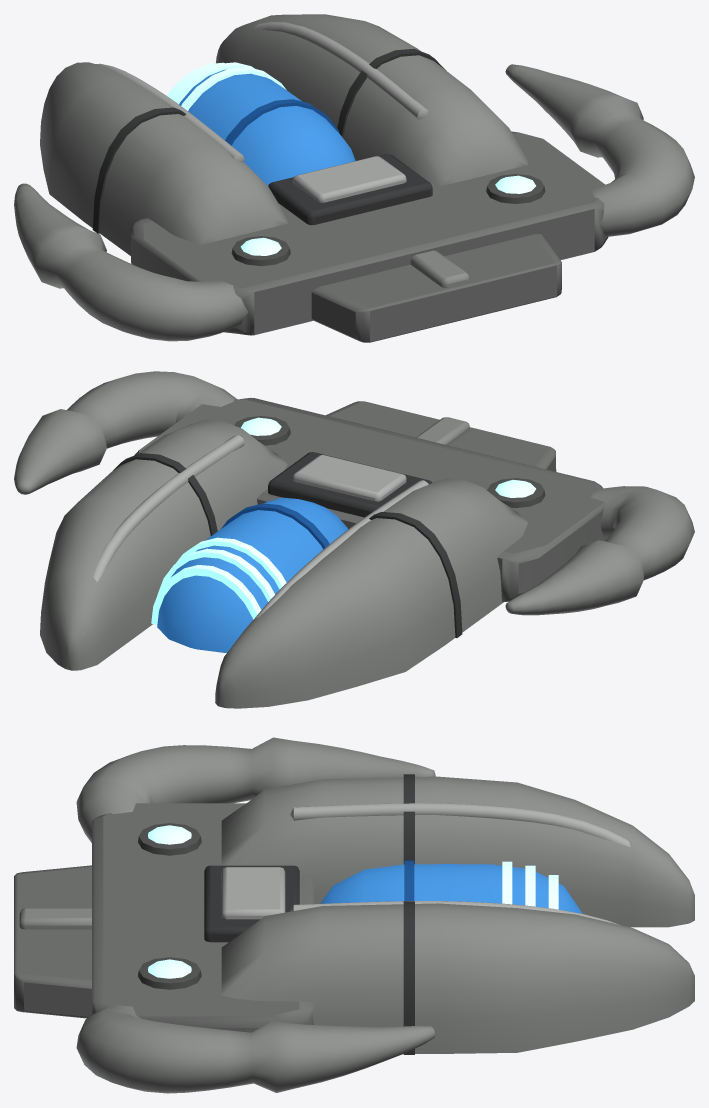
Rendered from store_gun_5.glb.
3 renders of one model, top to bottom at view 1: azimuth 30°, elevation 25°; view 2: azimuth 150°, elevation 25°; view 3: azimuth 270°, elevation 25°, orthographic. The views are drawn at different scales.
Parts seen in each view (by area): view 1: base, shell_-1, shell_1, sickle_-1, tail, sickle_1, capsule, box, lid, shell_rim_1, shell_seam_-1, tail_rib (+9 smaller); view 2: shell_-1, shell_1, base, sickle_-1, sickle_1, capsule, tail, lid, box, shell_rim_1, coil_0, shell_seam_-1 (+10 smaller); view 3: shell_1, shell_-1, base, sickle_1, sickle_-1, tail, capsule, shell_rim_-1, lid, box, tail_rib, shell_seam_1 (+6 smaller).
Boxes of the visible parts, x1,y1,x2,y2 form: base: [131, 131, 608, 335]; shell_-1: [40, 62, 287, 255]; shell_1: [216, 14, 528, 185]; sickle_-1: [14, 183, 248, 341]; tail: [311, 234, 561, 342]; sickle_1: [505, 64, 694, 236]; capsule: [179, 69, 355, 185]; box: [268, 154, 432, 225]; lid: [293, 156, 406, 202]; shell_rim_1: [253, 22, 428, 119]; shell_seam_-1: [92, 107, 186, 233]; tail_rib: [410, 250, 469, 287]; shell_-1: [215, 478, 527, 708]; shell_1: [40, 419, 287, 670]; base: [134, 398, 606, 601]; sickle_-1: [505, 486, 694, 615]; sickle_1: [14, 371, 237, 494]; capsule: [157, 497, 348, 652]; tail: [326, 401, 556, 471]; lid: [293, 455, 406, 501]; box: [268, 452, 431, 517]; shell_rim_1: [83, 435, 244, 633]; coil_0: [151, 565, 261, 624]; shell_seam_-1: [369, 511, 462, 637]; shell_1: [221, 903, 694, 1053]; shell_-1: [221, 776, 694, 927]; base: [92, 803, 313, 1032]; sickle_1: [76, 1004, 435, 1093]; sickle_-1: [76, 737, 435, 842]; tail: [14, 865, 91, 1018]; capsule: [320, 864, 582, 913]; shell_rim_-1: [290, 803, 630, 846]; lid: [221, 867, 285, 919]; box: [204, 865, 299, 942]; tail_rib: [19, 908, 91, 929]; shell_seam_1: [403, 901, 414, 1054].
Bounding box in the file's own units: 52.61 × 8.75 × 47.2.
